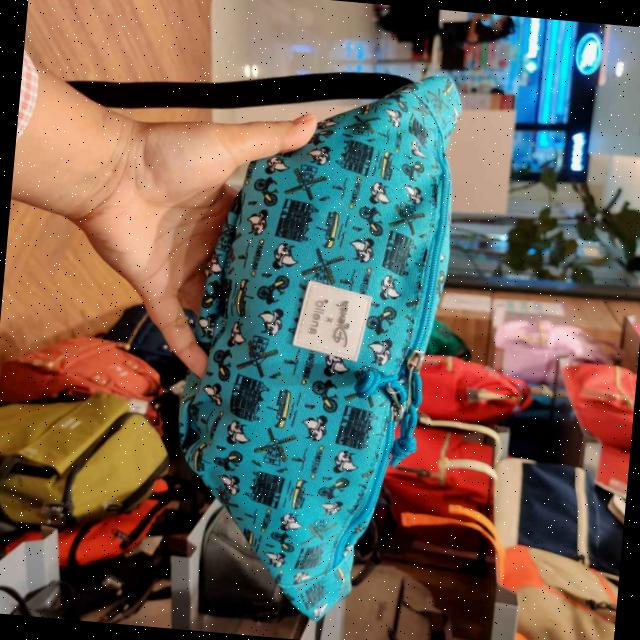handbag: (164, 50, 470, 630)
